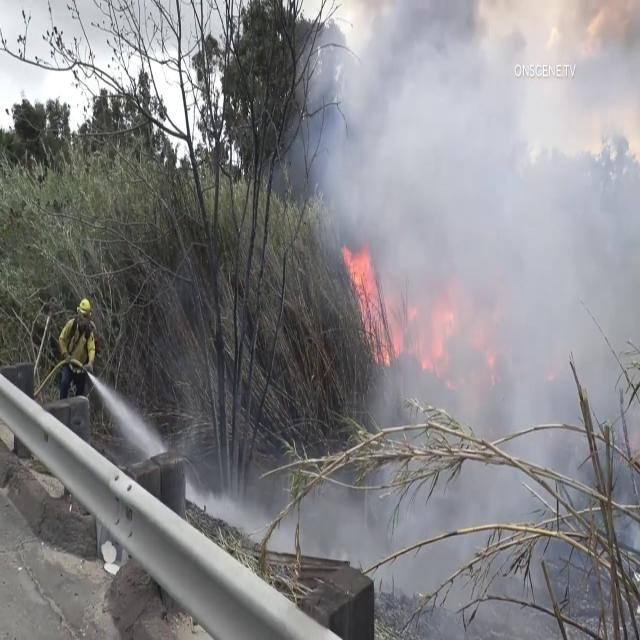Fire: (342, 234, 390, 366)
Smoke: (310, 4, 640, 464)
